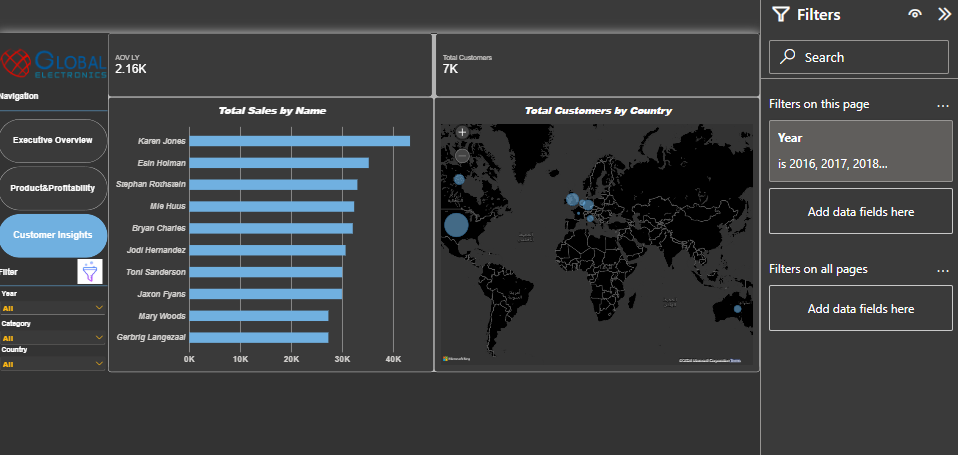

This screenshot's page, from the dashboard's own definition file:
{"tool":"powerbi","page":{"name":"Customer Insights","canvas":[1800,1000],"ordinal":2},"visuals":[{"type":"shape","box":[259.8,2.4,1540.2,798.4],"z":0},{"type":"image","box":[0,0,259.1,139.6],"z":1000},{"type":"textbox","box":[0,139.6,259.1,38.6],"z":2000},{"type":"shape","box":[0,178.2,259.1,12.9],"z":3000},{"type":"pageNavigator","box":[0,202.1,259.1,330.7],"z":4000},{"type":"textbox","box":[0,554.9,259.1,36.7],"z":5000},{"type":"shape","box":[0,591.6,259.1,12.9],"z":6000},{"type":"image","box":[174.5,532.8,84.5,58.8],"z":7000},{"type":"slicer","fields":{"Values":["Calendar.Year"]},"box":[0,604.5,259.1,60.6],"z":8000},{"type":"slicer","fields":{"Values":["Products.Category"]},"box":[0,678,259.1,60.6],"z":9000},{"type":"slicer","fields":{"Values":["Customers.Country"]},"box":[0,738.6,259.1,60.6],"z":10000},{"type":"cardVisual","fields":{"Data":["_Measures.AOV LY","_Measures.Total Customers"]},"box":[259.8,0,1540.2,151.2],"z":11000},{"type":"clusteredBarChart","fields":{"Category":["Customers.Name"],"Y":["_Measures.Total Sales"]},"box":[259.8,151.2,770.1,649.6],"z":12000},{"type":"map","fields":{"Category":["Stores.Country"],"Size":["_Measures.Total Customers"]},"box":[1029.9,151.2,770.1,649.6],"z":12001}]}

Visuals, with their boxes on the page's 1800x1000 design canvas (x1, y1, x2, y2). These are canvas units, not pixel positions in the 958x455 screenshot, which may show the page scaled, cropped or inside an application window:
shape: crop(260, 2, 1800, 801)
image: crop(0, 0, 259, 140)
textbox: crop(0, 140, 259, 178)
shape: crop(0, 178, 259, 191)
pageNavigator: crop(0, 202, 259, 533)
textbox: crop(0, 555, 259, 592)
shape: crop(0, 592, 259, 604)
image: crop(174, 533, 259, 592)
slicer - Calendar.Year: crop(0, 604, 259, 665)
slicer - Products.Category: crop(0, 678, 259, 739)
slicer - Customers.Country: crop(0, 739, 259, 799)
cardVisual - _Measures.AOV LY x _Measures.Total Customers: crop(260, 0, 1800, 151)
clusteredBarChart - Customers.Name x _Measures.Total Sales: crop(260, 151, 1030, 801)
map - Stores.Country x _Measures.Total Customers: crop(1030, 151, 1800, 801)
